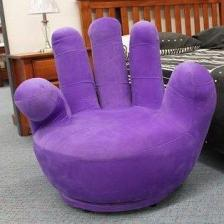purple: (14, 18, 217, 213)
